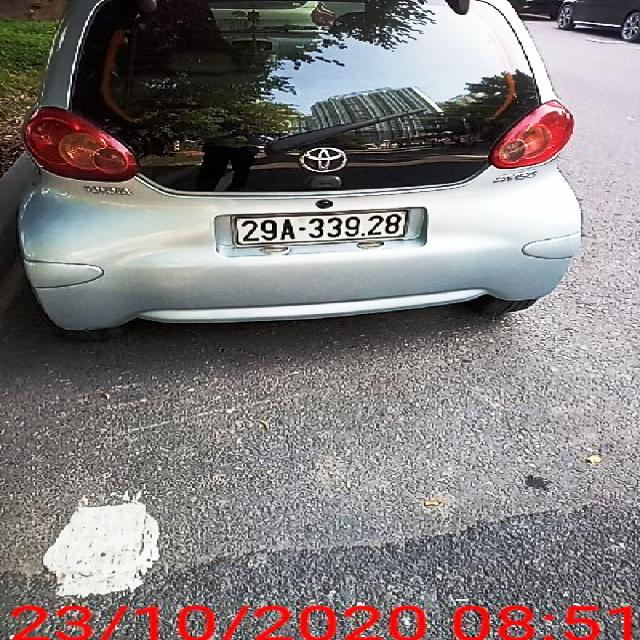license_plate: (234, 210, 410, 246)
